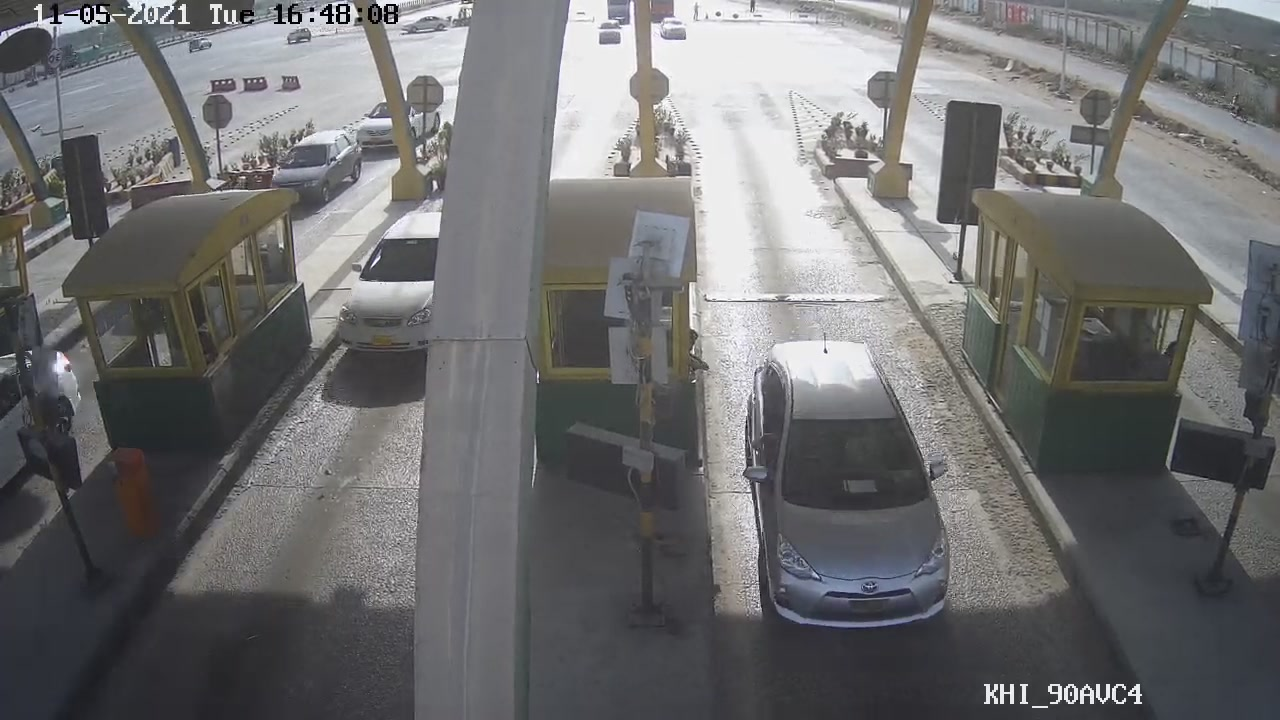F1: (737, 337, 955, 631)
